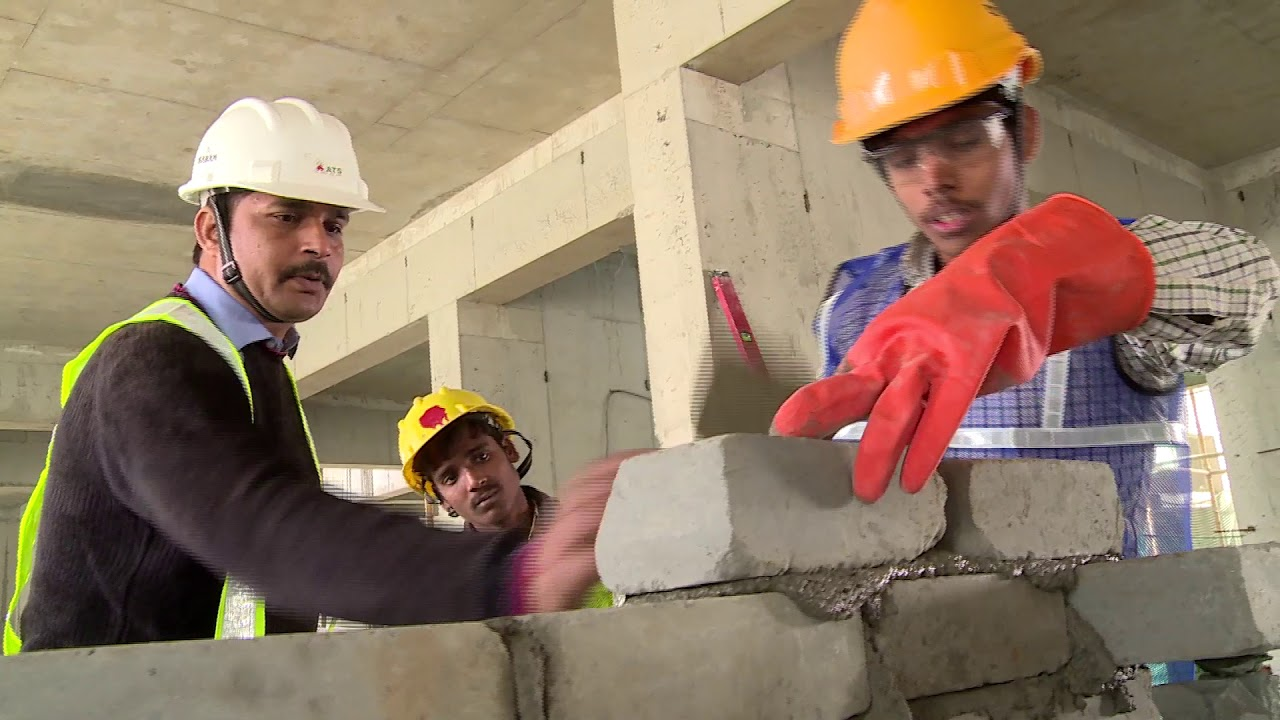SAFE: (36, 84, 376, 632), (820, 2, 1133, 432)
